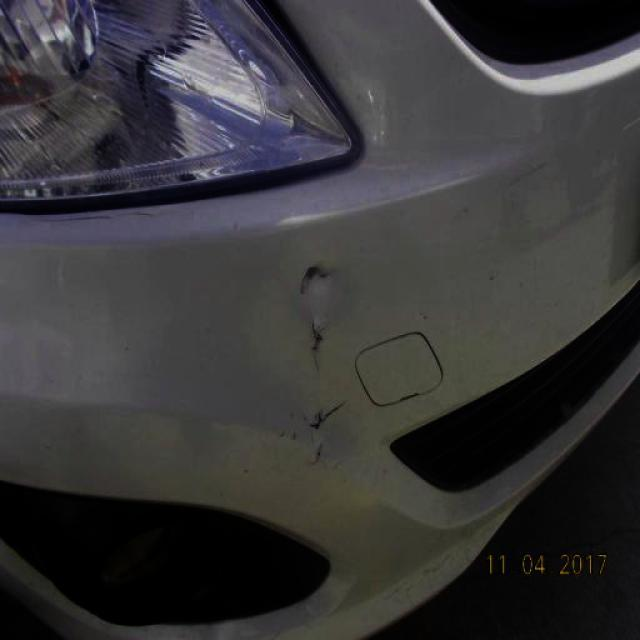car damage: (306, 390, 344, 473), (297, 254, 332, 305), (308, 310, 327, 368)
